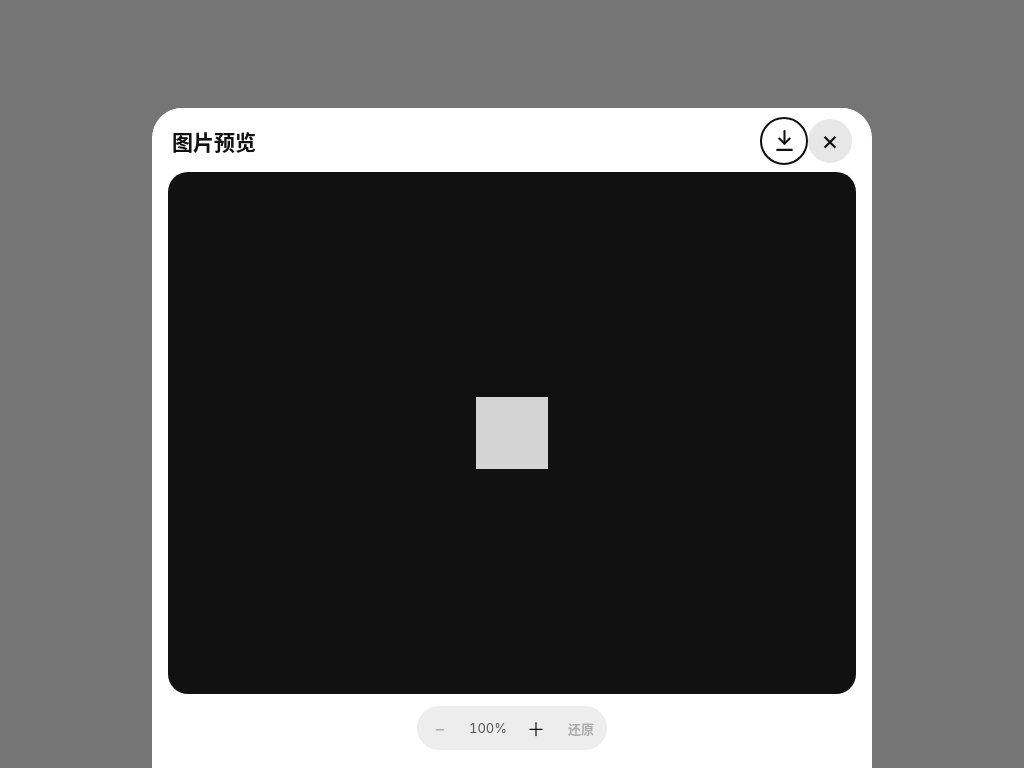
图片放大预览 › 大图支持按钮缩放和一键还原
Expected: the text "100%" is shown, [469,720,507,736]
Click the button named "放大图片" at (536, 728), box [516,709,556,747]
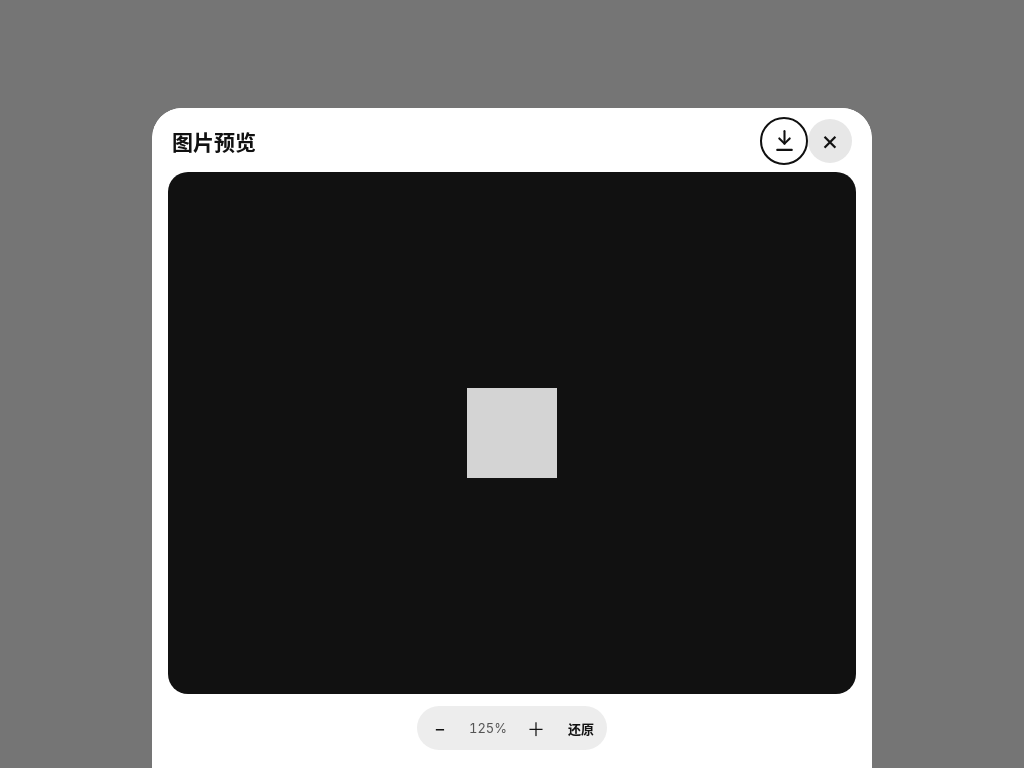
Expected: the text "125%" is shown, [469,720,507,736]
Click the button with aria-label "还原图片" at (581, 728), box [558,709,604,747]
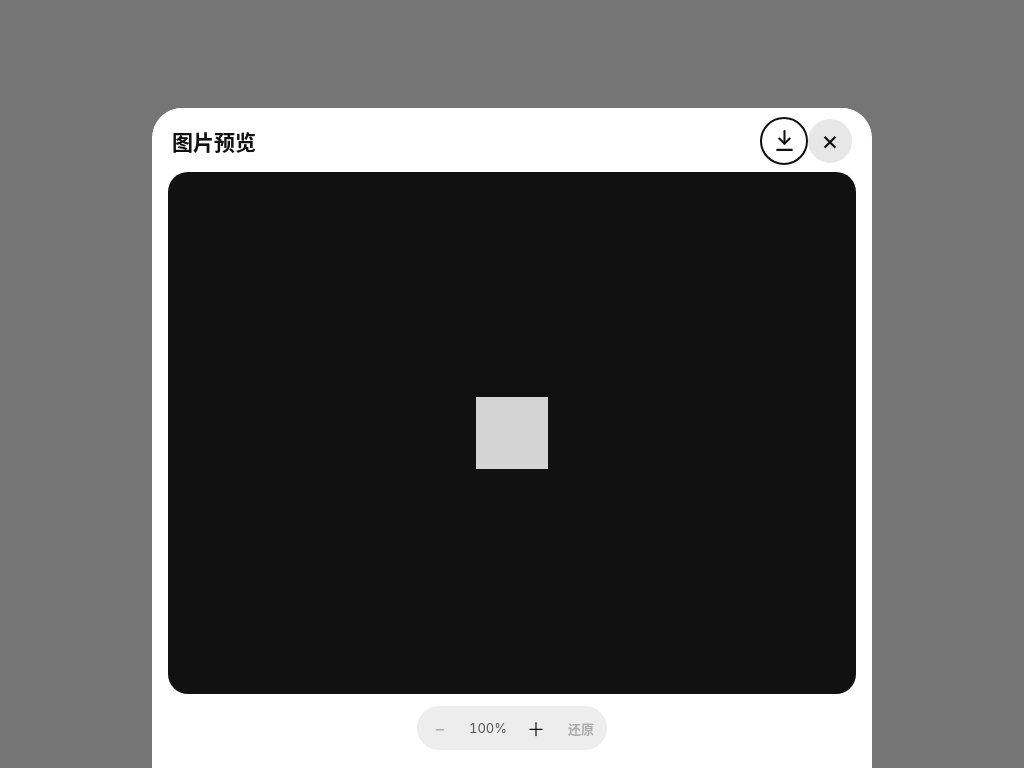
Expected: the text "100%" is shown, [469,720,507,736]
